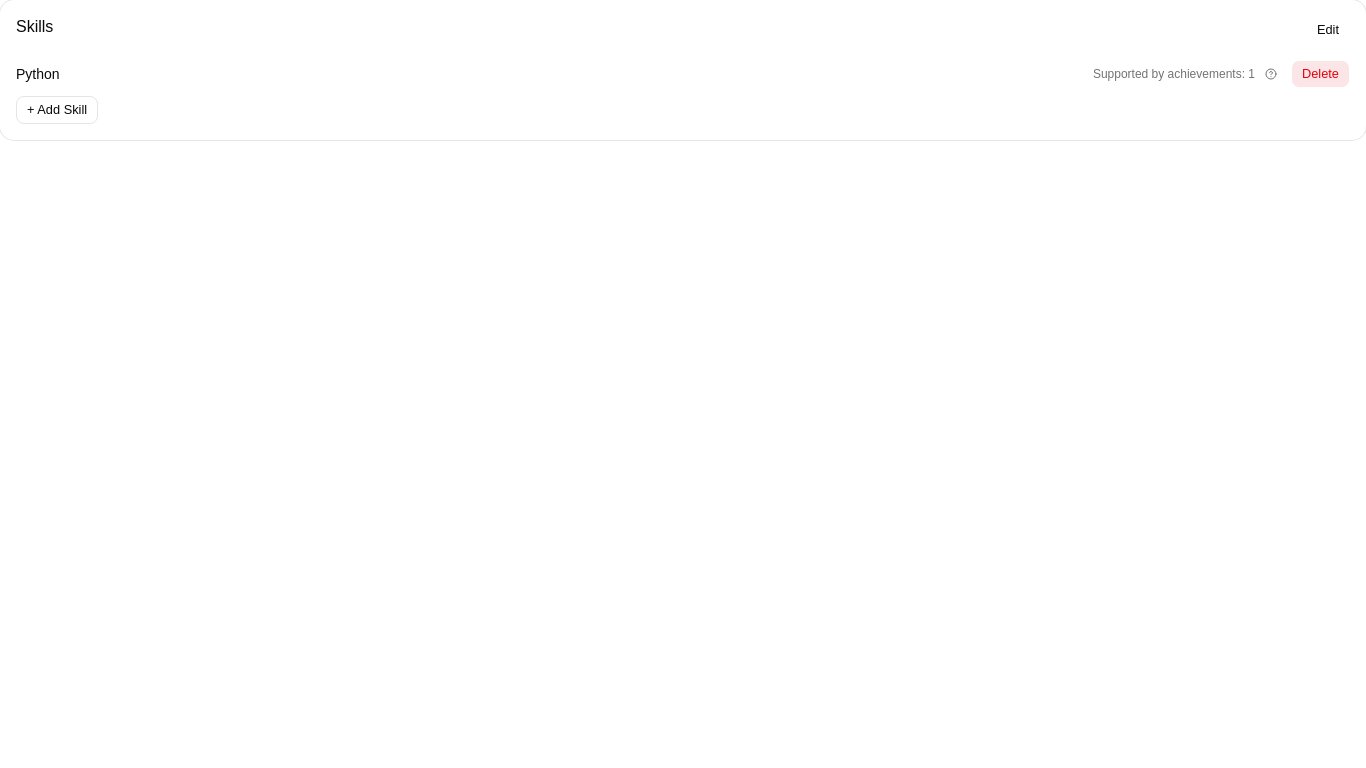
Scenario: EntitySection › shows a count summary under a skill row with linked evidence, revealing the list on click
Expected: the text "Supported by achievements: 1" is shown, [1093,66,1255,82]
Expected: the text "Led a team of five engineers" is not shown
Click the button named "Show supporting achievements" at (1271, 74), box [1259,62,1283,86]
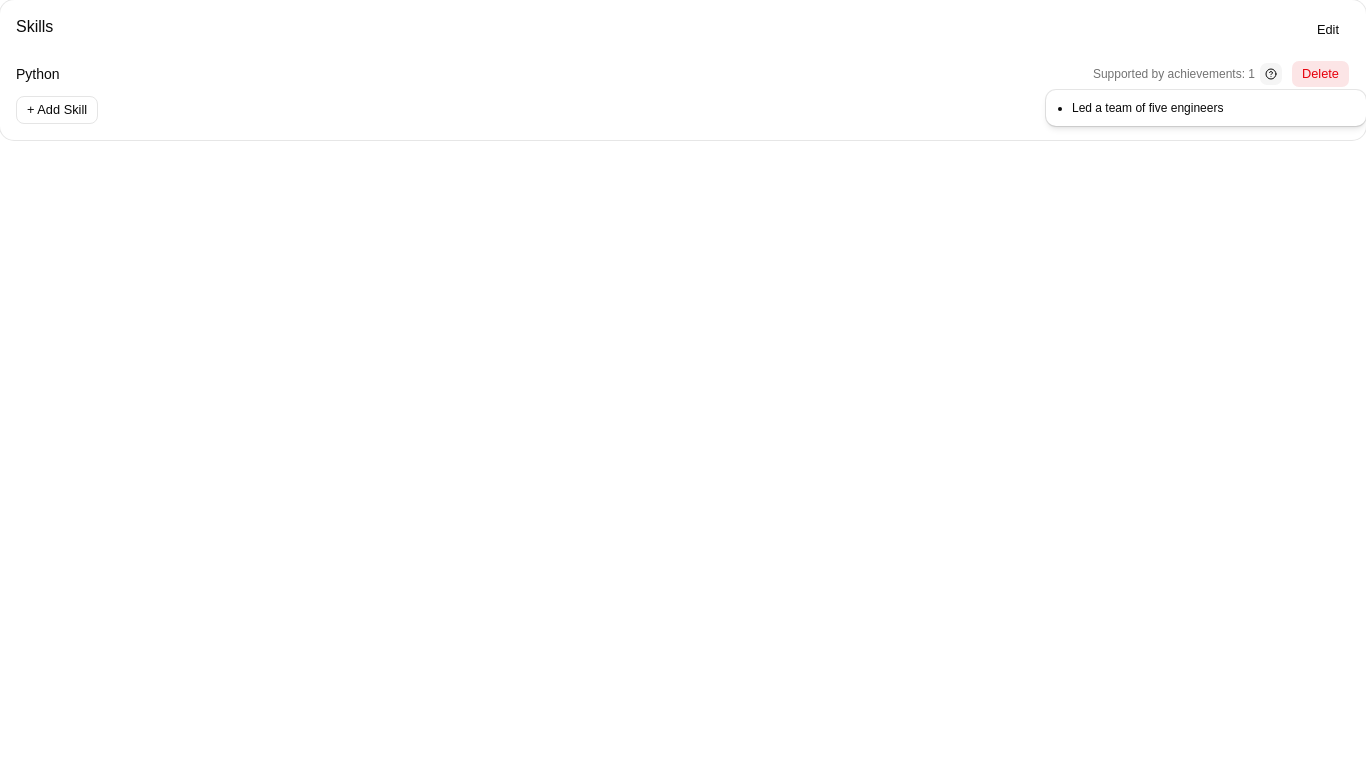
Now the list item "Led a team of five engineers" is shown, box [1072,101,1223,115]
